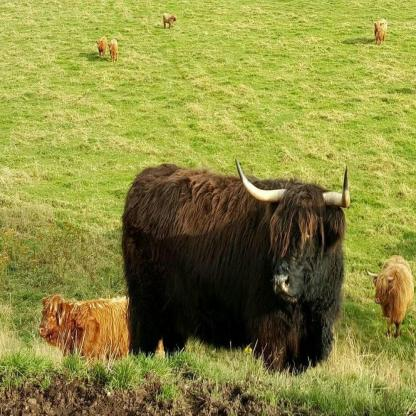cow: (123, 165, 343, 374), (38, 297, 129, 358), (374, 256, 414, 338), (374, 20, 387, 45), (108, 40, 118, 62), (163, 13, 176, 28), (98, 38, 106, 56)
